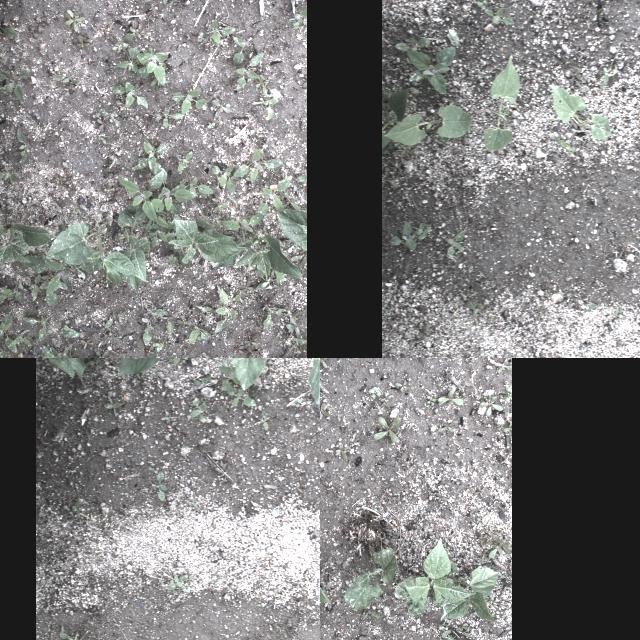crop: (392, 535, 501, 623), (47, 220, 145, 290), (221, 218, 305, 290), (342, 546, 398, 612), (482, 56, 520, 152), (383, 105, 472, 145), (0, 206, 52, 273), (548, 84, 610, 140), (172, 216, 238, 262), (276, 206, 306, 266), (231, 358, 284, 390), (382, 89, 408, 149), (37, 358, 85, 385), (554, 136, 576, 152)
weed: (119, 149, 191, 249), (232, 51, 276, 121), (0, 279, 38, 358), (113, 42, 173, 86), (406, 47, 456, 95), (196, 284, 242, 334), (225, 149, 285, 183), (256, 172, 298, 214), (141, 302, 171, 358), (0, 61, 35, 106), (57, 314, 91, 354), (110, 80, 150, 112), (194, 17, 236, 47), (173, 315, 210, 349), (168, 82, 206, 115), (279, 314, 307, 358), (389, 220, 427, 250), (205, 160, 235, 196), (227, 330, 265, 358), (260, 298, 288, 336), (10, 126, 32, 172), (371, 414, 402, 446), (21, 312, 53, 340), (64, 33, 95, 59), (484, 532, 512, 560), (26, 10, 52, 40), (182, 175, 214, 199), (427, 388, 465, 408), (92, 106, 122, 130), (393, 38, 429, 58), (366, 384, 396, 408), (469, 512, 488, 548), (438, 620, 472, 640), (230, 38, 252, 68), (36, 342, 76, 358), (210, 87, 230, 119), (95, 134, 116, 164), (54, 71, 80, 95), (478, 396, 504, 420), (286, 0, 306, 31), (150, 468, 168, 502), (49, 168, 76, 190), (152, 111, 184, 129), (62, 9, 88, 31), (226, 388, 256, 407), (126, 0, 189, 9), (175, 150, 199, 172), (436, 413, 458, 437), (446, 230, 464, 258), (394, 374, 416, 396), (484, 8, 514, 24), (218, 366, 238, 390), (0, 20, 23, 40), (189, 398, 207, 422), (332, 440, 353, 460), (487, 358, 510, 375), (431, 489, 455, 505), (0, 169, 22, 186), (104, 397, 122, 417), (383, 142, 399, 164), (600, 65, 616, 87), (167, 574, 189, 590), (320, 572, 337, 592), (358, 607, 382, 621), (84, 300, 104, 316), (320, 401, 333, 425), (502, 414, 512, 444), (38, 134, 56, 148), (500, 383, 512, 403), (568, 68, 582, 84), (466, 302, 482, 316), (194, 374, 212, 386), (474, 482, 486, 500), (88, 347, 107, 358), (60, 631, 83, 640), (402, 457, 413, 475), (70, 502, 82, 518), (260, 408, 268, 432), (320, 358, 331, 375), (205, 122, 223, 132), (420, 324, 430, 342), (329, 628, 344, 640), (419, 527, 437, 537), (202, 352, 230, 358), (398, 144, 412, 156), (416, 223, 430, 235), (128, 338, 138, 354), (168, 358, 187, 366), (382, 82, 391, 96), (475, 22, 485, 34), (528, 165, 538, 177), (472, 304, 482, 316), (290, 398, 302, 408), (459, 292, 477, 298), (612, 308, 624, 316), (476, 0, 488, 7), (173, 444, 181, 452), (478, 70, 484, 80), (147, 467, 157, 473), (192, 499, 198, 509), (560, 298, 566, 306), (612, 113, 618, 119), (610, 128, 616, 134), (582, 194, 588, 200), (272, 588, 278, 594), (442, 358, 453, 361), (437, 141, 445, 145), (546, 98, 550, 106), (468, 265, 472, 273), (382, 354, 390, 358), (538, 92, 544, 96), (479, 272, 483, 278), (258, 602, 264, 606), (577, 83, 581, 87)
